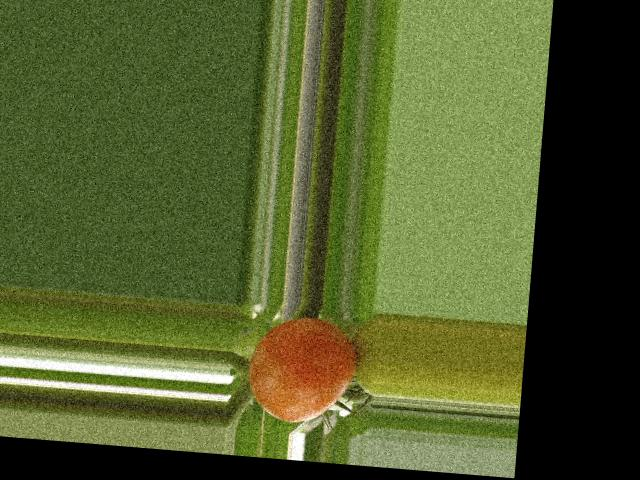tomato: (245, 313, 360, 427)
